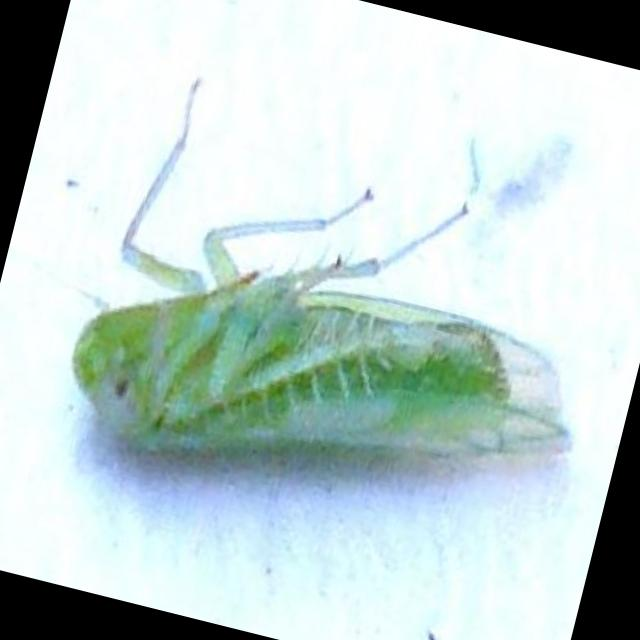green-leafhopper: (71, 212, 582, 520)
